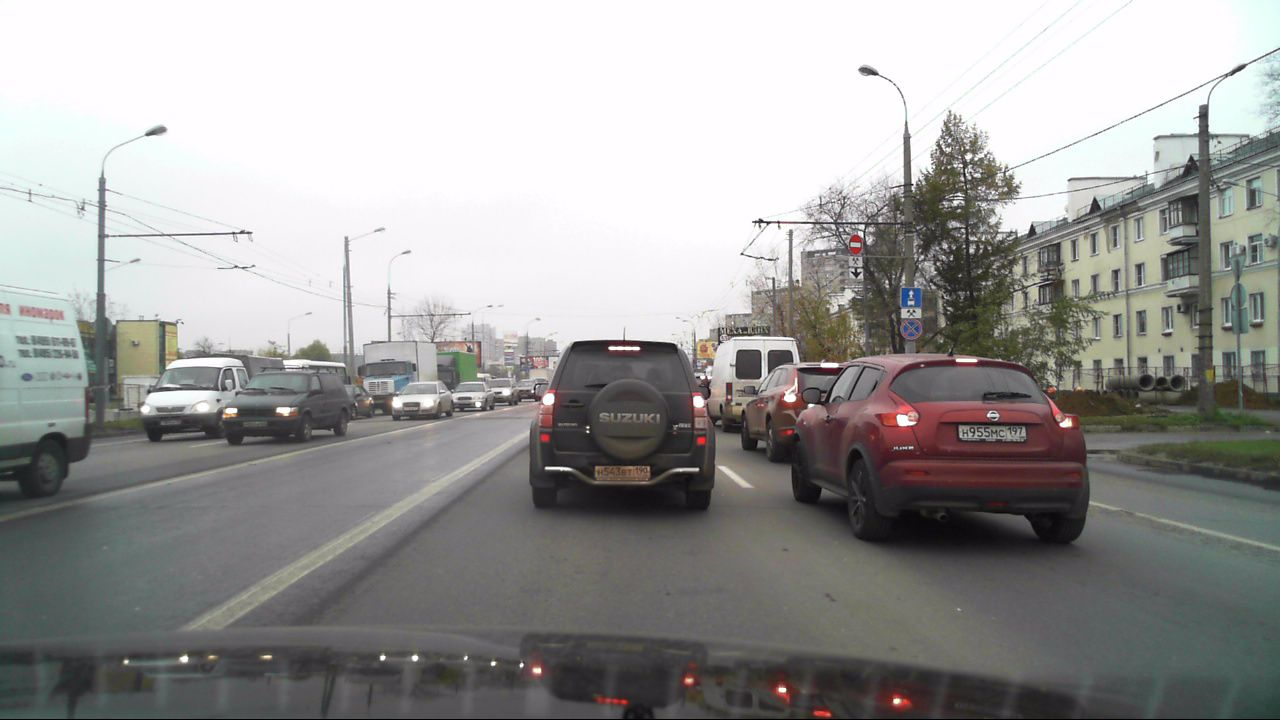No Parking: (900, 318, 922, 340)
